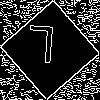L: (25, 25, 56, 73)
